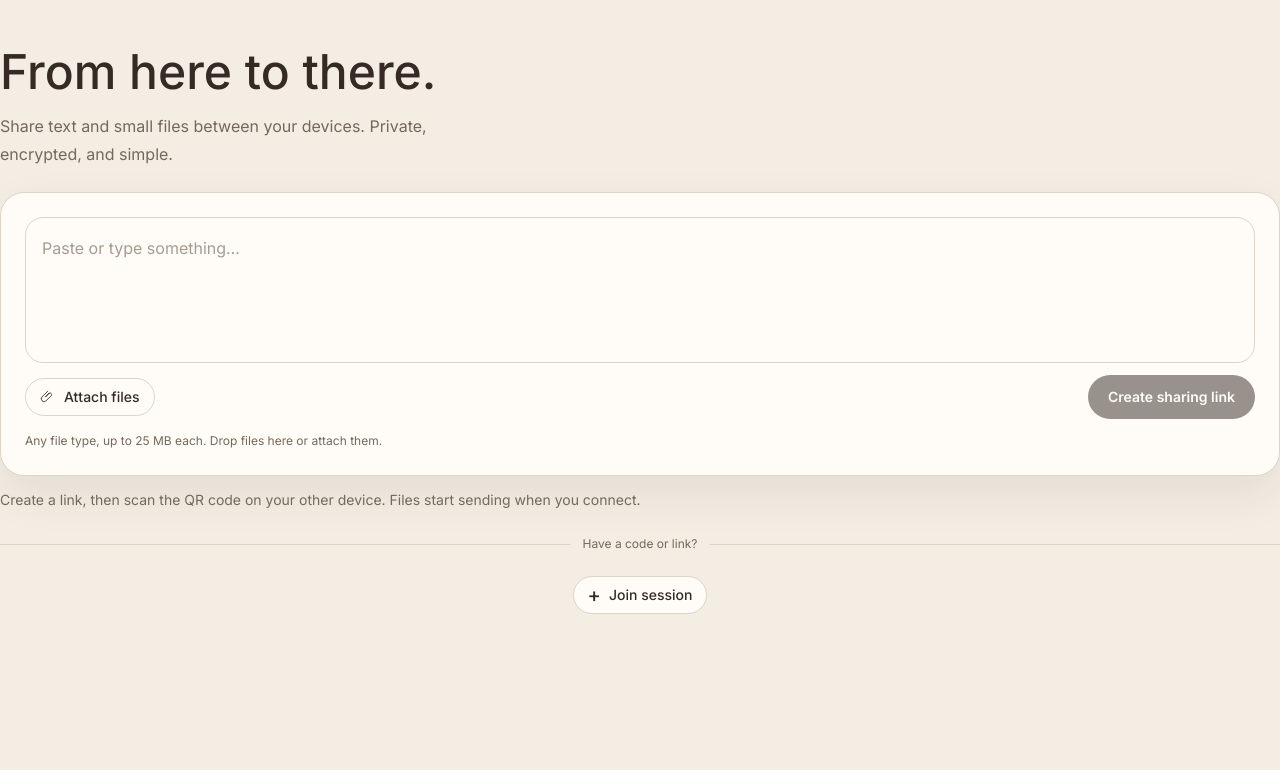
Test: HomePage file sharing › exposes a labeled join action with its expanded state
Click the button "+ Join session" at (640, 595), box x1=573 y1=576 x2=707 y2=614
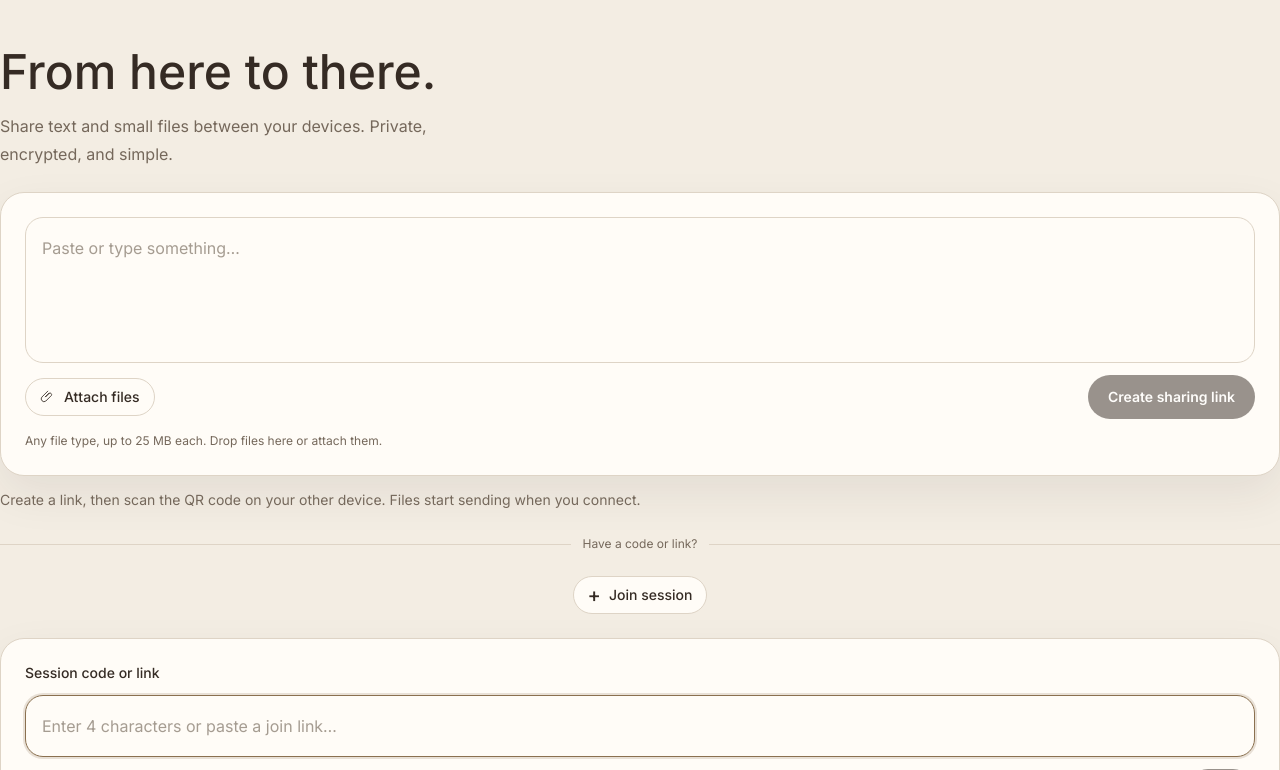
Result: the label "Session code or link" is shown at x1=25 y1=664 x2=160 y2=681
Result: the field labelled "Session code or link" is shown at x1=25 y1=695 x2=1255 y2=757
